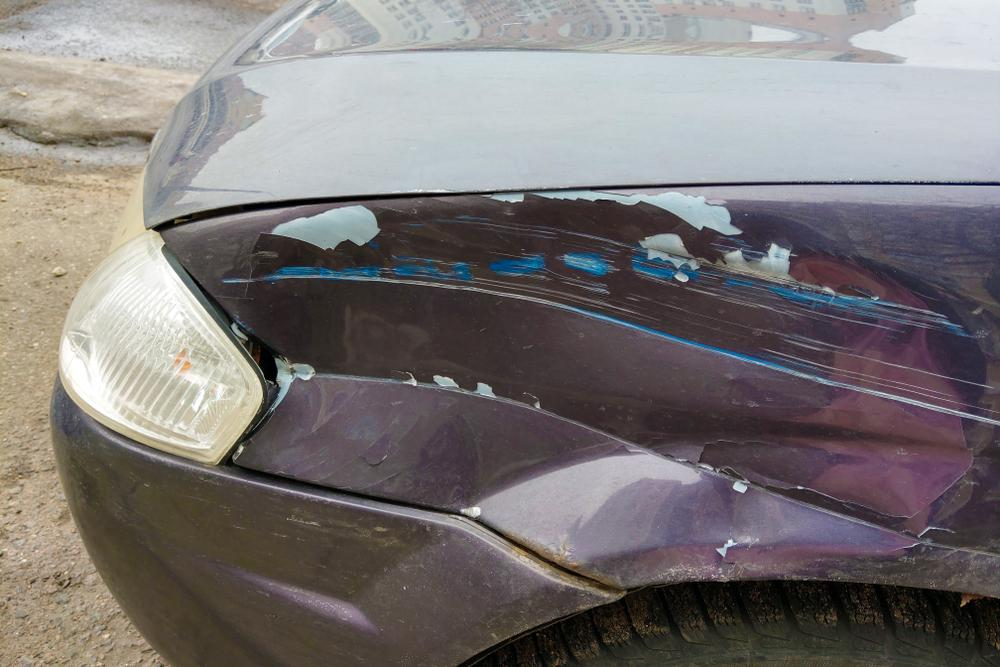dent: (232, 195, 1000, 578)
